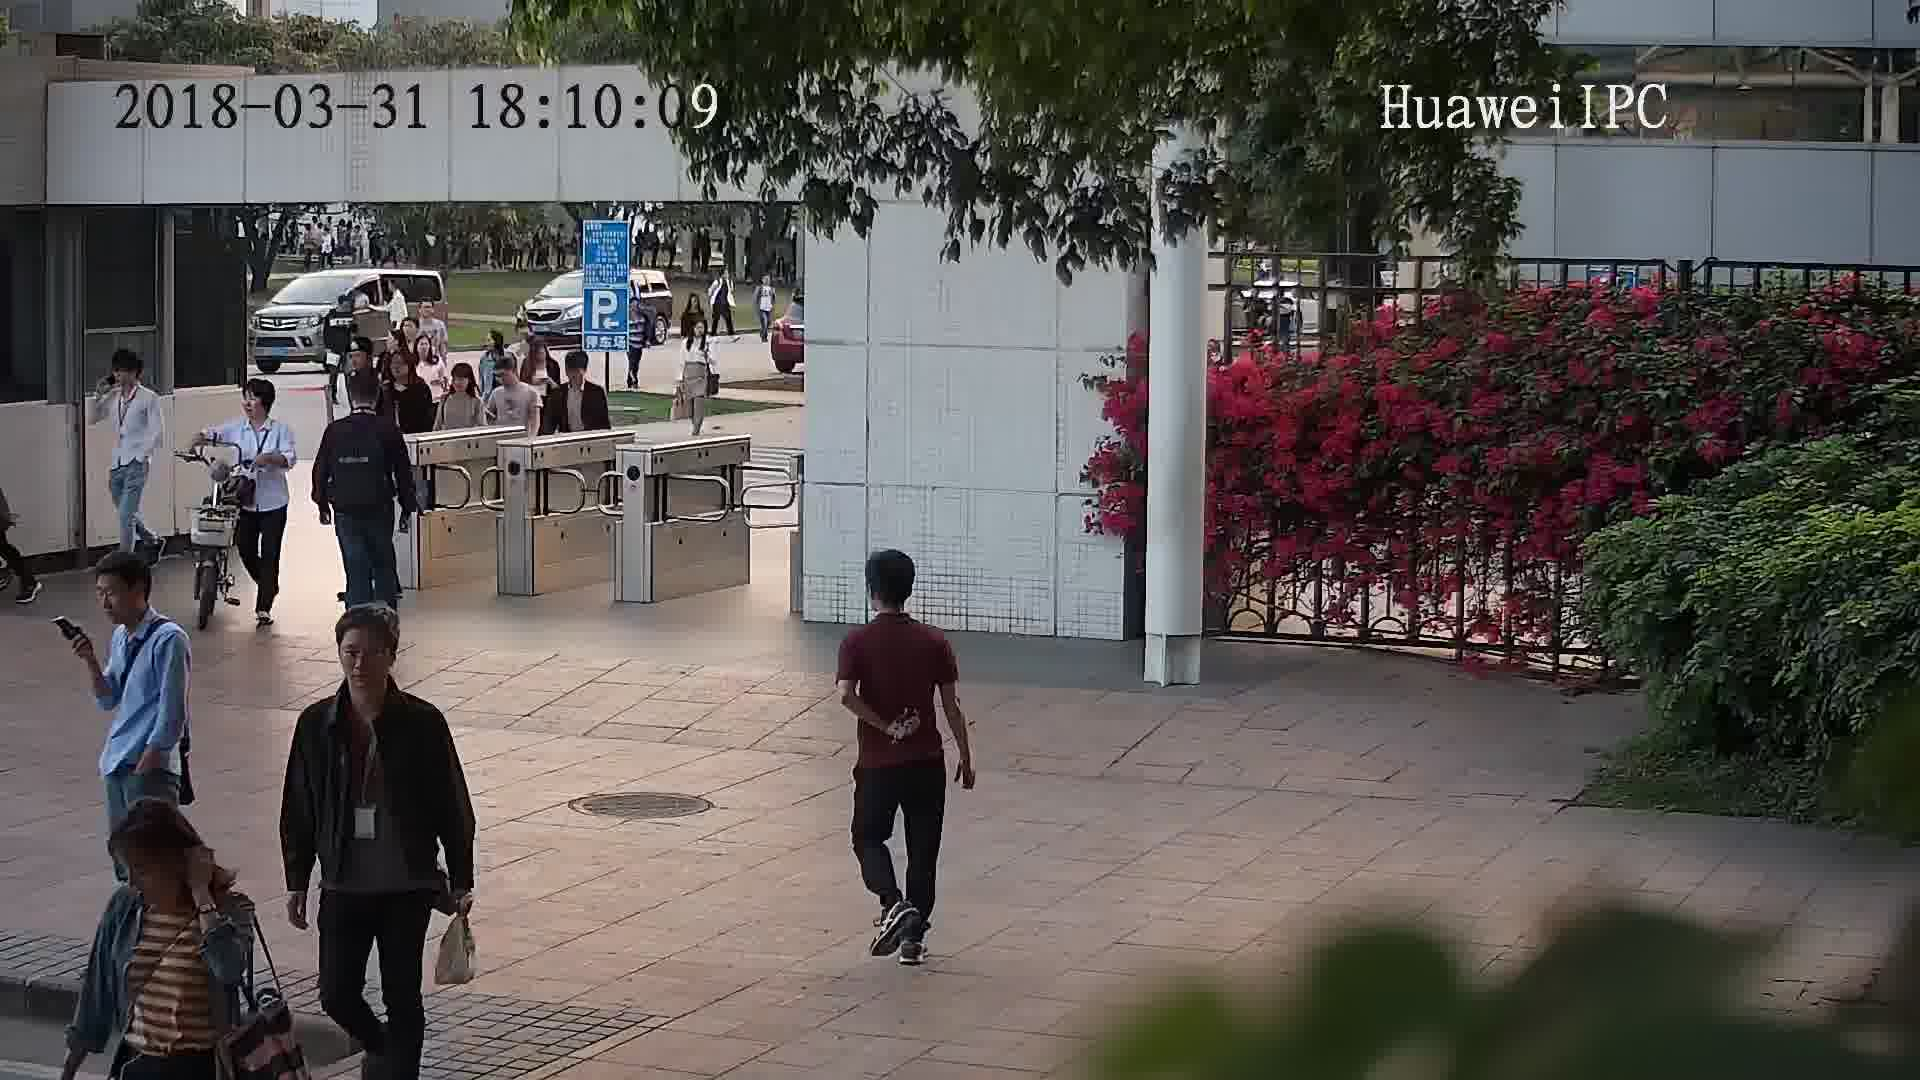face: (114, 841, 179, 906), (332, 626, 397, 691), (86, 570, 144, 628)
person: (98, 803, 260, 955), (292, 603, 443, 744), (836, 542, 950, 666), (99, 553, 185, 665), (323, 369, 395, 447), (229, 376, 291, 441), (105, 346, 160, 420), (554, 348, 606, 403), (334, 333, 385, 387), (381, 345, 429, 397), (486, 355, 535, 402), (441, 362, 484, 409), (518, 335, 558, 382), (408, 335, 445, 376), (415, 296, 451, 335), (681, 311, 712, 348), (375, 327, 411, 356), (479, 328, 509, 363), (683, 288, 706, 314), (714, 266, 734, 288), (755, 272, 775, 294)
